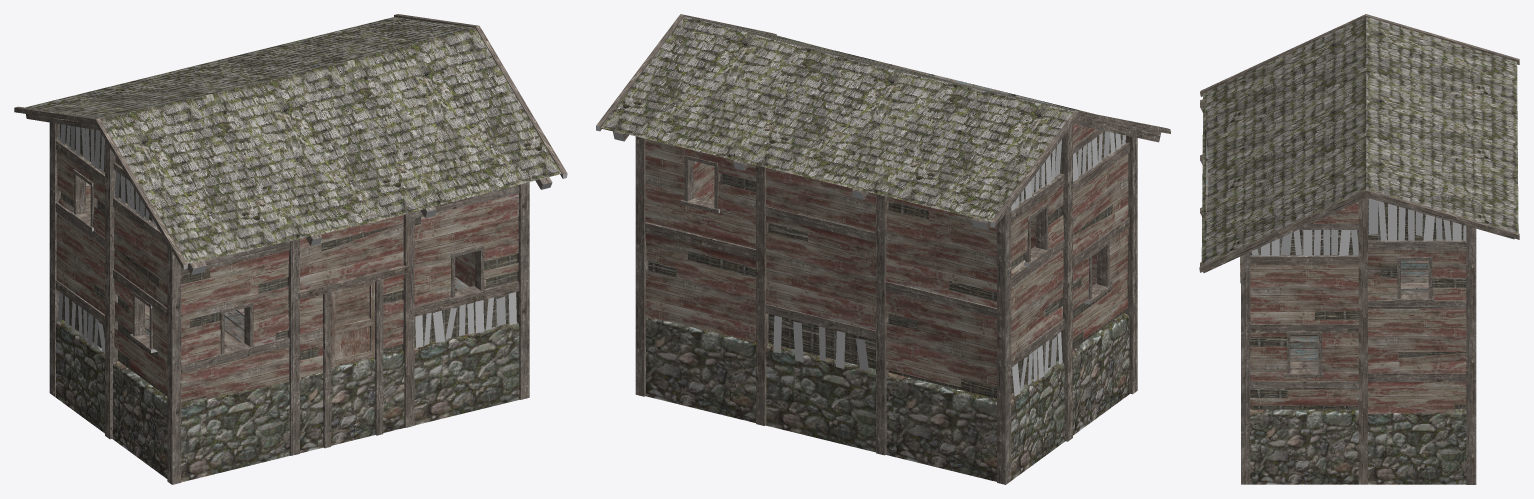
Rendered from House11_LOD2.fbx.
3 renders of one model, left to right at view 1: azimuth 30°, elevation 25°; view 2: azimuth 150°, elevation 25°; view 3: azimuth 270°, elevation 25°, orthographic. The views are drawn at different scales.
Visible parts, largest first — view 1: Roof, Base, Floor, Windows, Doors; view 2: Base, Roof, Floor, Windows; view 3: Roof, Base, Floor, Windows.
Boxes of the visible parts, x1=… form: Roof: x1=14, y1=14, x2=567, y2=275; Base: x1=49, y1=122, x2=529, y2=484; Floor: x1=55, y1=277, x2=519, y2=482; Windows: x1=70, y1=169, x2=486, y2=358; Doors: x1=331, y1=281, x2=374, y2=367; Base: x1=635, y1=79, x2=1137, y2=484; Roof: x1=596, y1=14, x2=1170, y2=230; Floor: x1=645, y1=313, x2=1129, y2=481; Windows: x1=680, y1=155, x2=1112, y2=304; Roof: x1=1199, y1=14, x2=1519, y2=272; Base: x1=1240, y1=197, x2=1476, y2=484; Floor: x1=1250, y1=260, x2=1466, y2=484; Windows: x1=1283, y1=256, x2=1434, y2=377.
Size of the model in its own units: 11.69 by 9.33 by 8.96.
